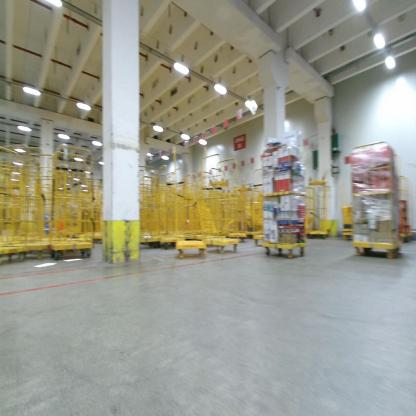small_load_carrier: (395, 207, 414, 222), (394, 222, 414, 236), (394, 199, 410, 207)
